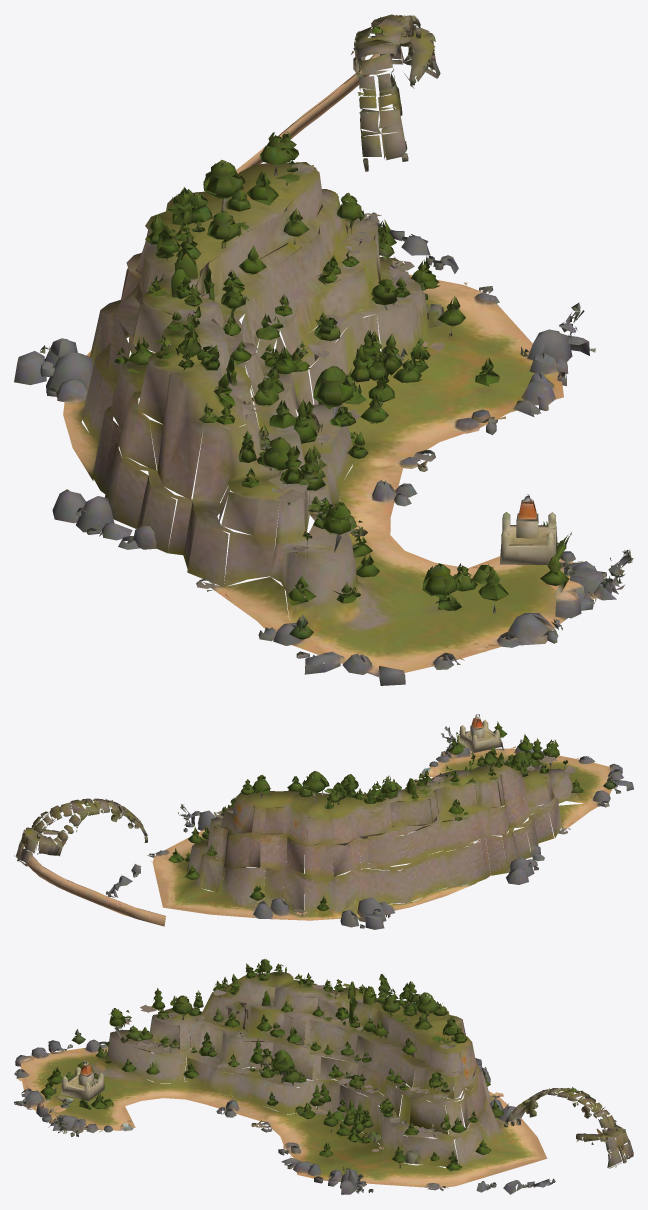
The picture shows the model from 3 angles, top to bottom: view 1: azimuth 30°, elevation 25°; view 2: azimuth 150°, elevation 25°; view 3: azimuth 270°, elevation 25°; orthographic projection. The views are drawn at different scales.
Visible parts, largest first — view 1: tripo_node_6ccfc062-c808-48ca-8751-26b2e4c42b95; view 2: tripo_node_6ccfc062-c808-48ca-8751-26b2e4c42b95; view 3: tripo_node_6ccfc062-c808-48ca-8751-26b2e4c42b95.
Part boxes in pixels (bbox=[...]): tripo_node_6ccfc062-c808-48ca-8751-26b2e4c42b95: bbox=[14, 14, 633, 685]; tripo_node_6ccfc062-c808-48ca-8751-26b2e4c42b95: bbox=[14, 714, 633, 929]; tripo_node_6ccfc062-c808-48ca-8751-26b2e4c42b95: bbox=[14, 959, 633, 1194].
Size of the model in its own units: 80.58 by 25.55 by 116.
Materials: 1 (1 with a texture image).
